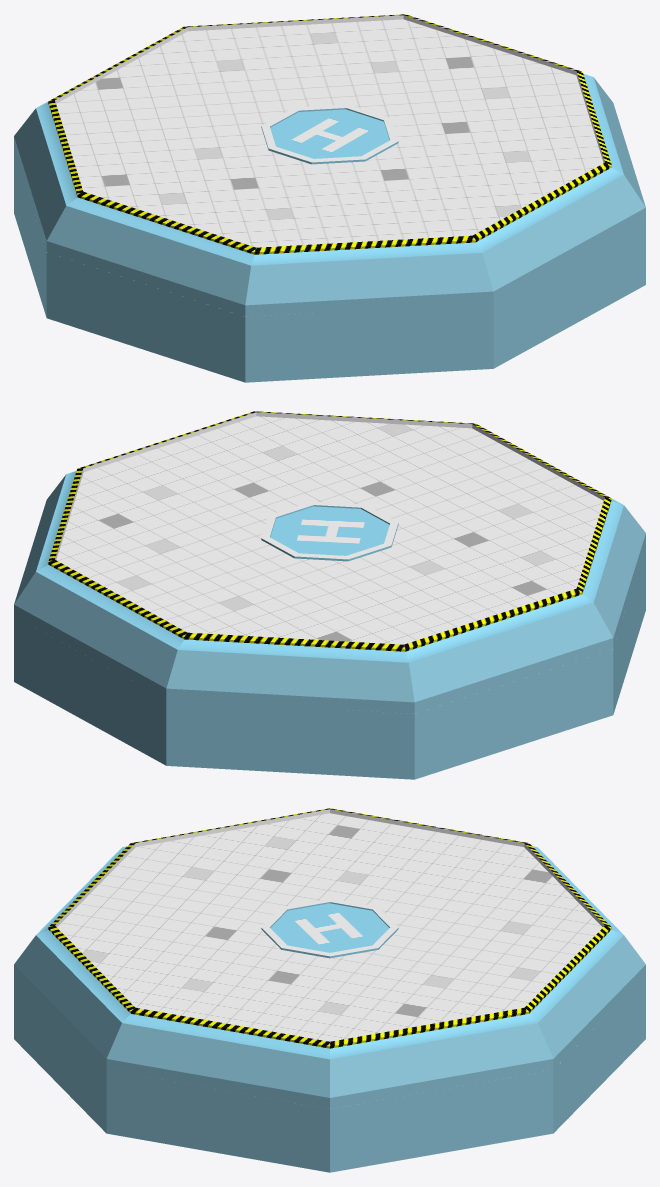
Rendered from building.fbx.
3 renders of one model, top to bottom at view 1: azimuth 30°, elevation 25°; view 2: azimuth 150°, elevation 25°; view 3: azimuth 270°, elevation 25°, orthographic. The views are drawn at different scales.
Parts seen in each view (by area): view 1: polySurface2, polySurface1, floor, airport, wall_airport; view 2: polySurface2, polySurface1, floor, airport, wall_airport; view 3: polySurface2, polySurface1, floor, airport, wall_airport.
Part boxes in pixels (box(x1,y1,x2,y2)): polySurface2: box(56, 19, 603, 247); polySurface1: box(14, 14, 645, 316); floor: box(14, 148, 645, 382); airport: box(270, 109, 389, 158); wall_airport: box(261, 104, 398, 164); polySurface2: box(56, 416, 603, 644); polySurface1: box(14, 411, 645, 713); floor: box(14, 545, 645, 779); airport: box(270, 506, 389, 555); wall_airport: box(261, 501, 398, 561); polySurface2: box(57, 813, 602, 1041); polySurface1: box(14, 808, 645, 1108); floor: box(14, 976, 645, 1172); airport: box(270, 903, 389, 952); wall_airport: box(261, 898, 398, 958).
Bounding box in the file's own units: 44.75 × 8.88 × 44.75.
1 material, 1 textured.
